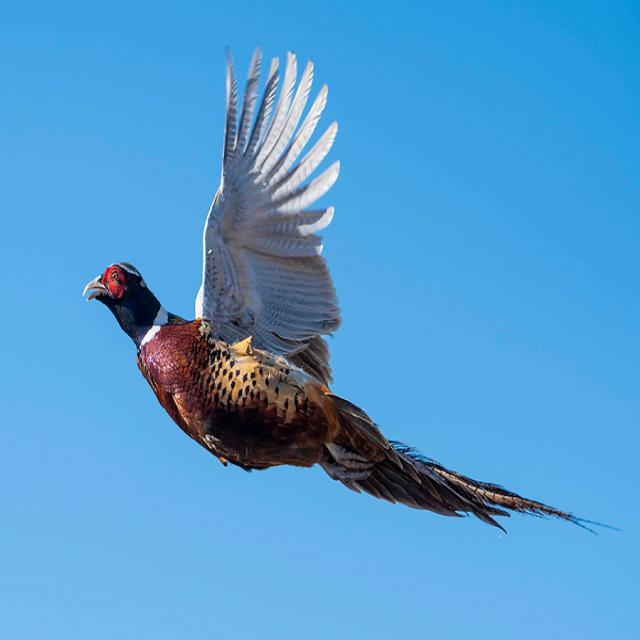pheasant: (79, 41, 622, 538)
